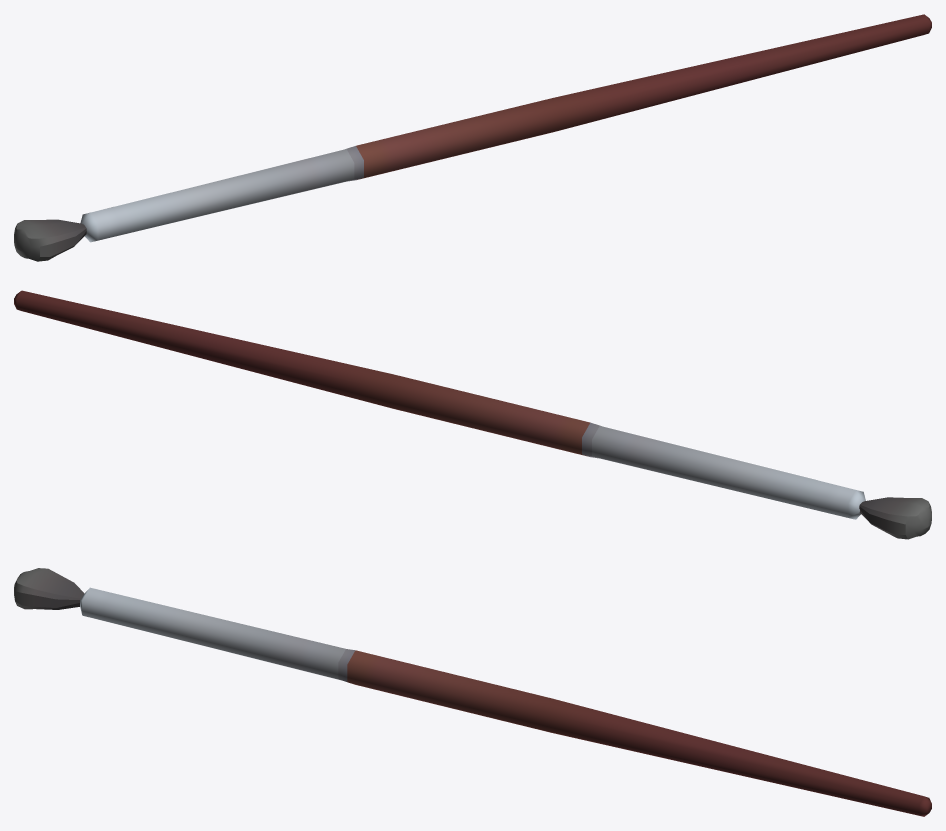
The model's file is eye_shadow.fbx.
The picture shows the model from 3 angles, top to bottom: view 1: azimuth 30°, elevation 25°; view 2: azimuth 150°, elevation 25°; view 3: azimuth 330°, elevation 25°; orthographic projection.
Parts seen in each view (by area): view 1: eye_shadow; view 2: eye_shadow; view 3: eye_shadow.
Part boxes in pixels (box(x1,y1,x2,y2)): eye_shadow: box(14, 14, 931, 261); eye_shadow: box(14, 290, 931, 539); eye_shadow: box(14, 568, 931, 816).
Size of the model in its own units: 10.07 by 0.3651 by 0.5351.
